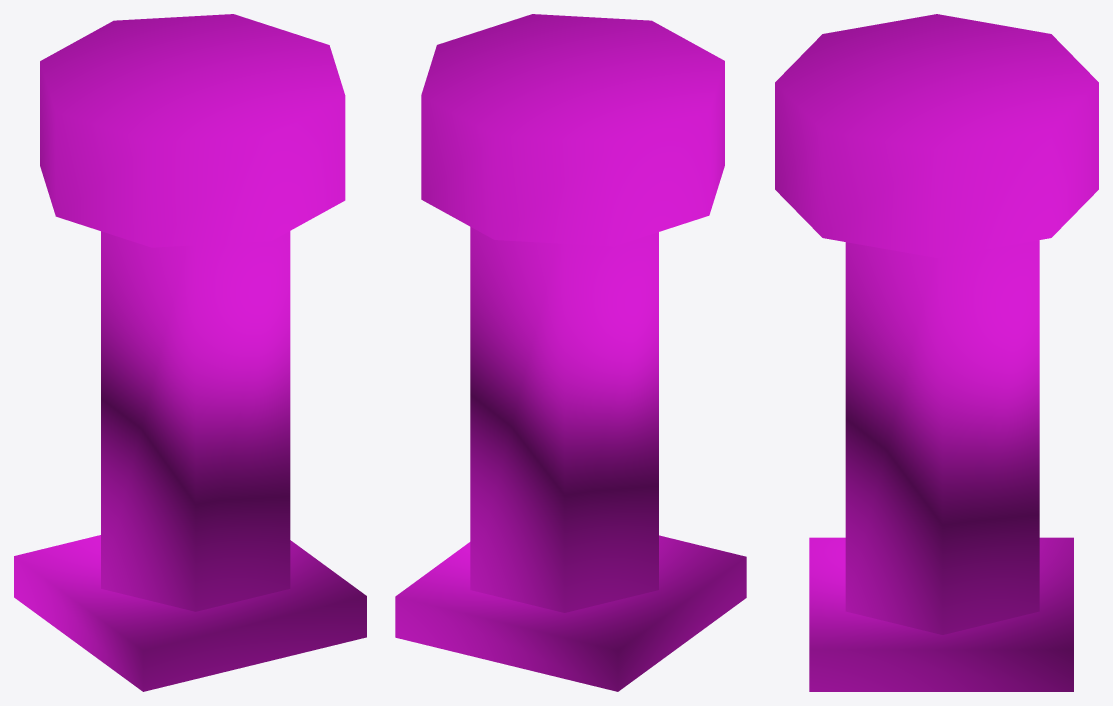
Rendered from ps2_jrpg_shrine_priest_npc.obj.
3 renders of one model, left to right at view 1: azimuth 30°, elevation 25°; view 2: azimuth 150°, elevation 25°; view 3: azimuth 270°, elevation 25°, orthographic. The views are drawn at different scales.
Bounding box in the file's own units: 1.04 × 1.96 × 1.04.
